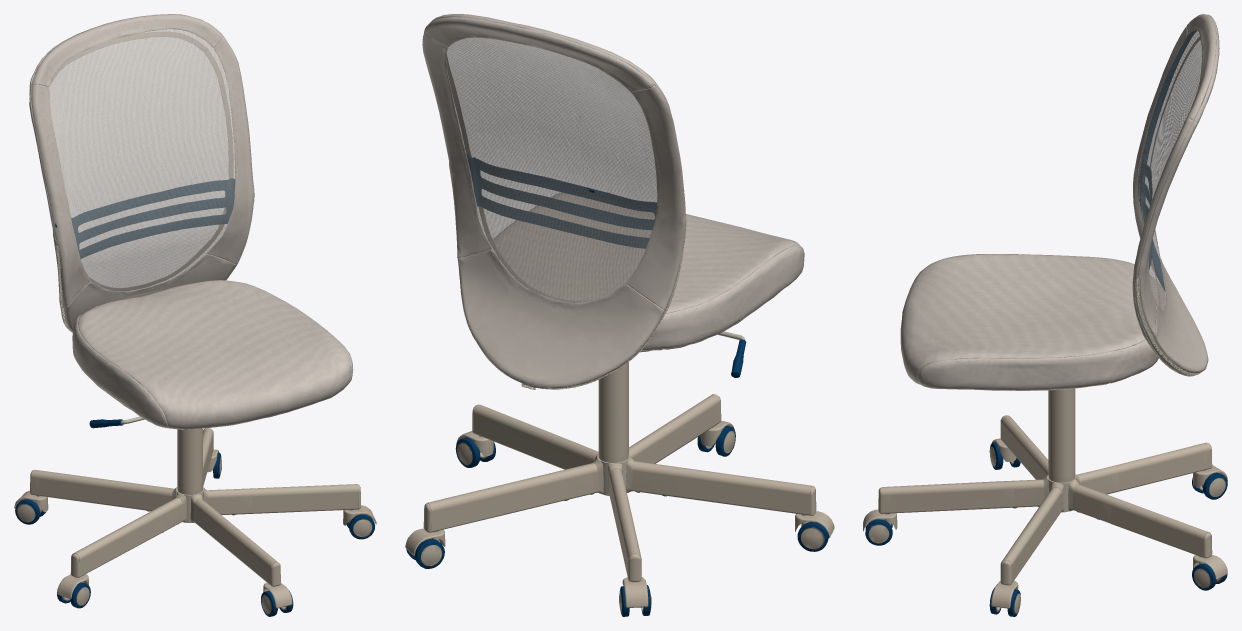
File: BR-CHAIR-B.glb
The picture shows the model from 3 angles, left to right: view 1: azimuth 30°, elevation 25°; view 2: azimuth 150°, elevation 25°; view 3: azimuth 270°, elevation 25°; orthographic projection. The views are drawn at different scales.
Visible parts, largest first — view 1: 70492202-FLINTAN001; view 2: 70492202-FLINTAN001; view 3: 70492202-FLINTAN001.
Boxes of the visible parts, box(x1,y1,x2,y2) form: 70492202-FLINTAN001: box(14, 14, 376, 616); 70492202-FLINTAN001: box(405, 14, 834, 616); 70492202-FLINTAN001: box(863, 14, 1227, 616).
Bounding box in the file's own units: 0.7107 × 1.02 × 0.6762.
Materials: 2 (2 with a texture image).
